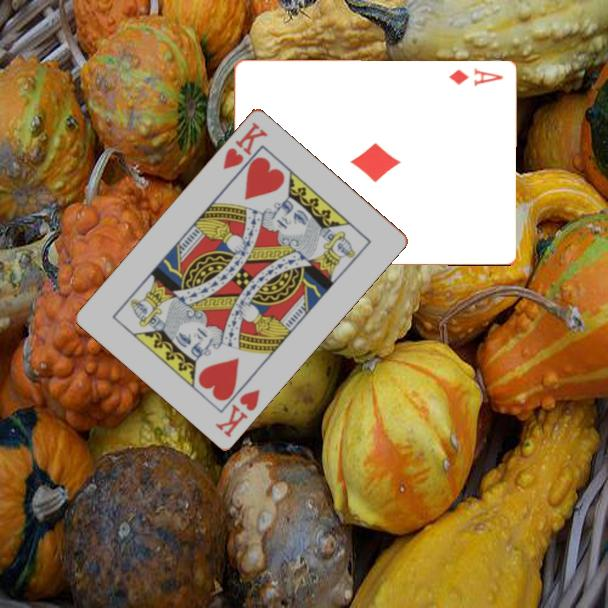d01: (445, 65, 506, 90)
h13: (211, 385, 263, 440), (219, 118, 271, 172)
